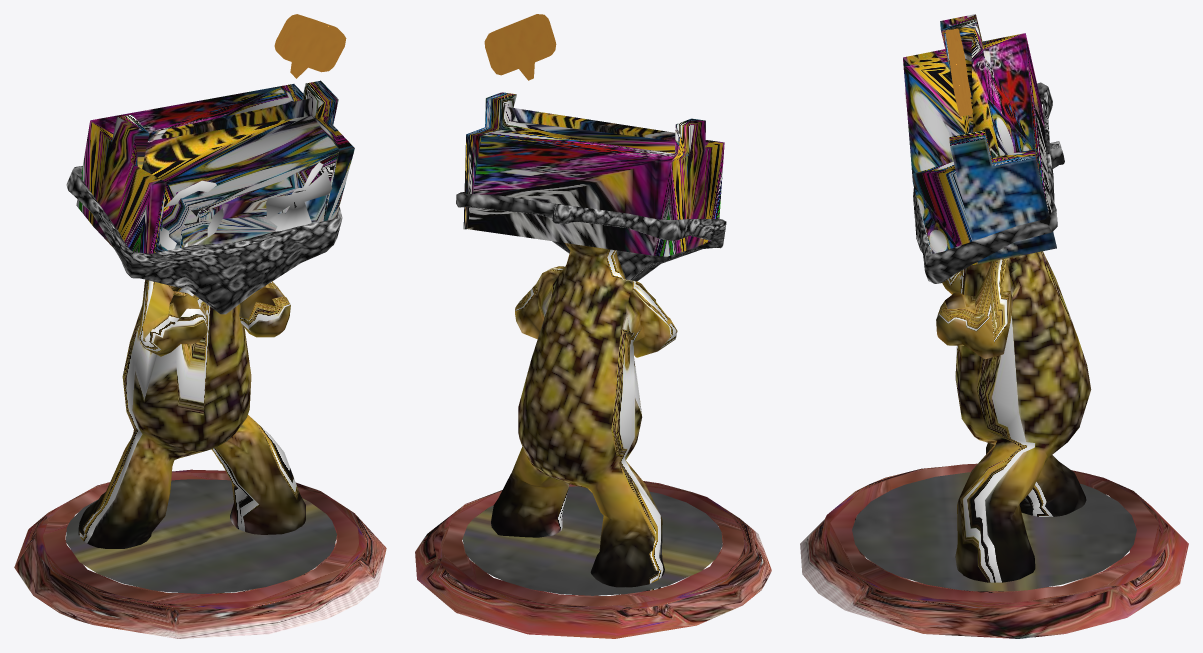
3 views of the same model, side by side, from view 1: azimuth 30°, elevation 25°; view 2: azimuth 150°, elevation 25°; view 3: azimuth 270°, elevation 25° (orthographic). The views are drawn at different scales.
Bounding box in the file's own units: 1.44 × 2.3 × 1.43.
Materials: 8 (6 with a texture image).
